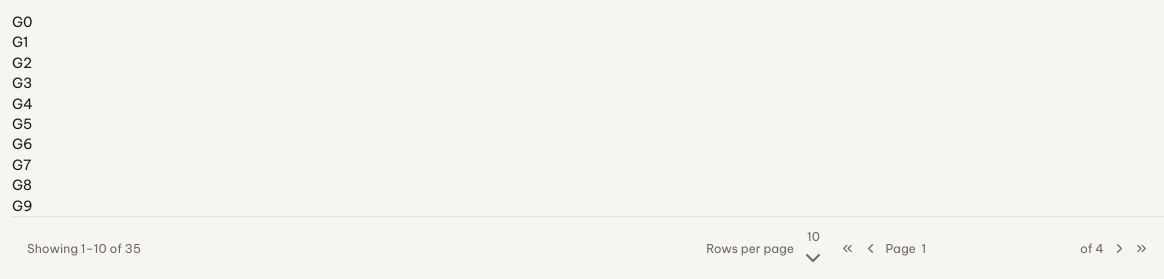
Scenario: DataTablePager — navigation › next advances to the second page
The width and height of the screenshot is (1164, 279).
Click the button named "next page": x=1119, y=249 [1112, 241, 1126, 256]
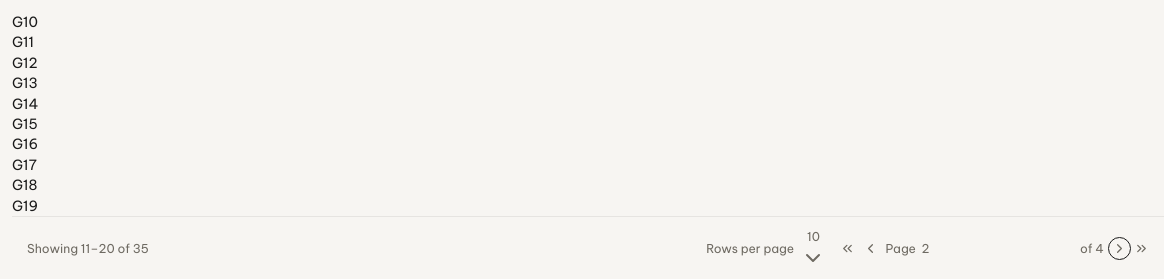
Result: the list item "G10" is shown at [12, 13, 38, 31]
Result: the list item "G0" no longer shows "G0"
